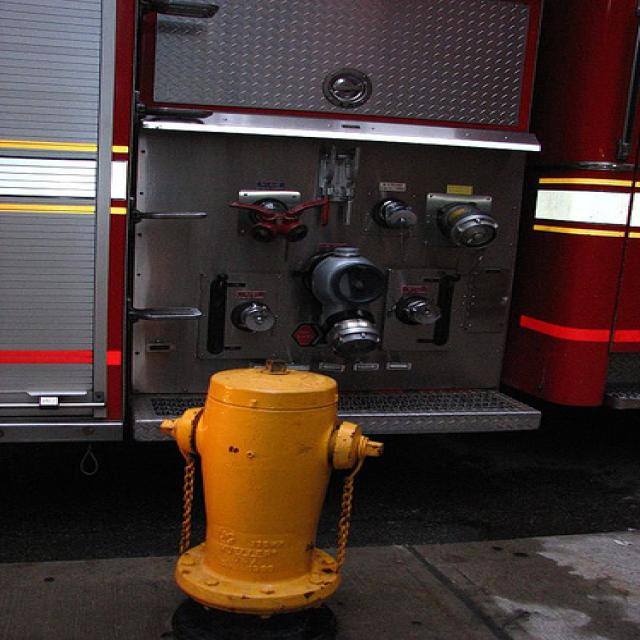Vehicle: (2, 1, 640, 542)
